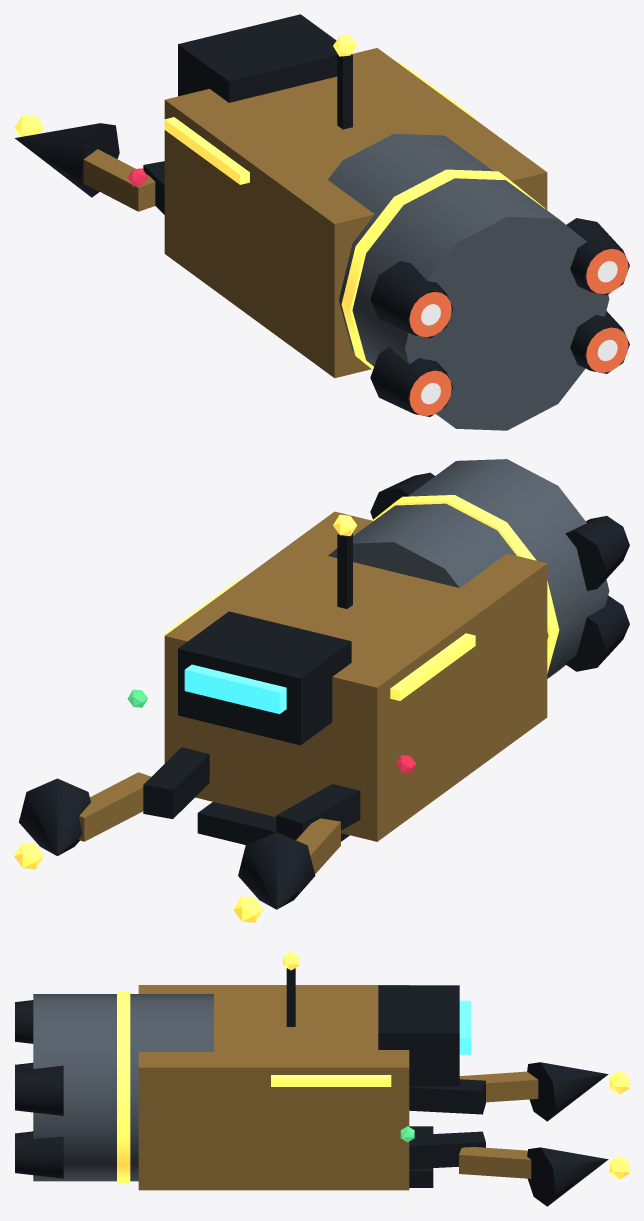
File: miner.glb
The picture shows the model from 3 angles, top to bottom: view 1: azimuth 30°, elevation 25°; view 2: azimuth 150°, elevation 25°; view 3: azimuth 270°, elevation 25°; orthographic projection. The views are drawn at different scales.
Parts seen in each view (by area): view 1: industrial_rectangular_chassis, oversized_rear_ore_tank, blocky_operator_cab, port_faceted_drill_bit, glowing_ore_tank_band, port_heavy_lift_engine_upper_bell, port_articulated_drill_arm_outer, port_heavy_lift_engine_lower_bell, starboard_heavy_lift_engine_upper_bell, port_hazard_light_bar, starboard_heavy_lift_engine_lower_bell, port_heavy_lift_engine_lower_glow (+5 smaller); view 2: industrial_rectangular_chassis, oversized_rear_ore_tank, blocky_operator_cab, port_faceted_drill_bit, starboard_faceted_drill_bit, starboard_articulated_drill_arm_inner, wide_worksite_visor, port_heavy_lift_engine_upper_bell, port_articulated_drill_arm_inner, starboard_articulated_drill_arm_outer, port_heavy_lift_engine_lower_bell, ventral_crusher_scoop (+5 smaller); view 3: industrial_rectangular_chassis, oversized_rear_ore_tank, blocky_operator_cab, starboard_faceted_drill_bit, glowing_ore_tank_band, port_faceted_drill_bit, port_articulated_drill_arm_inner, starboard_heavy_lift_engine_upper_bell, starboard_articulated_drill_arm_inner, starboard_articulated_drill_arm_outer, starboard_heavy_lift_engine_lower_bell, port_articulated_drill_arm_outer (+7 smaller).
Boxes of the visible parts, x1,y1,x2,y2 form: industrial_rectangular_chassis: [164, 48, 547, 378]; oversized_rear_ore_tank: [328, 133, 609, 430]; blocky_operator_cab: [178, 14, 337, 102]; port_faceted_drill_bit: [15, 123, 119, 197]; glowing_ore_tank_band: [341, 169, 545, 369]; port_heavy_lift_engine_upper_bell: [370, 261, 453, 338]; port_articulated_drill_arm_outer: [64, 149, 155, 211]; port_heavy_lift_engine_lower_bell: [370, 347, 453, 416]; starboard_heavy_lift_engine_upper_bell: [566, 218, 629, 294]; port_hazard_light_bar: [164, 117, 249, 184]; starboard_heavy_lift_engine_lower_bell: [570, 311, 629, 373]; port_heavy_lift_engine_lower_glow: [409, 370, 451, 415]; industrial_rectangular_chassis: [164, 511, 547, 841]; oversized_rear_ore_tank: [328, 459, 609, 678]; blocky_operator_cab: [178, 611, 351, 745]; port_faceted_drill_bit: [238, 832, 315, 909]; starboard_faceted_drill_bit: [19, 778, 90, 855]; starboard_articulated_drill_arm_inner: [143, 747, 209, 818]; wide_worksite_visor: [184, 664, 286, 713]; port_heavy_lift_engine_upper_bell: [565, 516, 629, 590]; port_articulated_drill_arm_inner: [276, 784, 360, 839]; starboard_articulated_drill_arm_outer: [78, 772, 151, 841]; port_heavy_lift_engine_lower_bell: [565, 595, 629, 671]; ventral_crusher_scoop: [197, 802, 349, 844]; industrial_rectangular_chassis: [138, 985, 409, 1190]; oversized_rear_ore_tank: [33, 994, 213, 1181]; blocky_operator_cab: [378, 985, 459, 1086]; starboard_faceted_drill_bit: [527, 1147, 608, 1206]; glowing_ore_tank_band: [117, 991, 130, 1183]; port_faceted_drill_bit: [527, 1062, 608, 1121]; port_articulated_drill_arm_inner: [409, 1079, 485, 1114]; starboard_heavy_lift_engine_upper_bell: [15, 1065, 63, 1115]; starboard_articulated_drill_arm_inner: [409, 1131, 485, 1169]; starboard_articulated_drill_arm_outer: [459, 1147, 531, 1178]; starboard_heavy_lift_engine_lower_bell: [15, 1131, 63, 1178]; port_articulated_drill_arm_outer: [459, 1071, 538, 1102].
Bounding box in the file's own units: 3.69 × 3.25 × 8.19.
